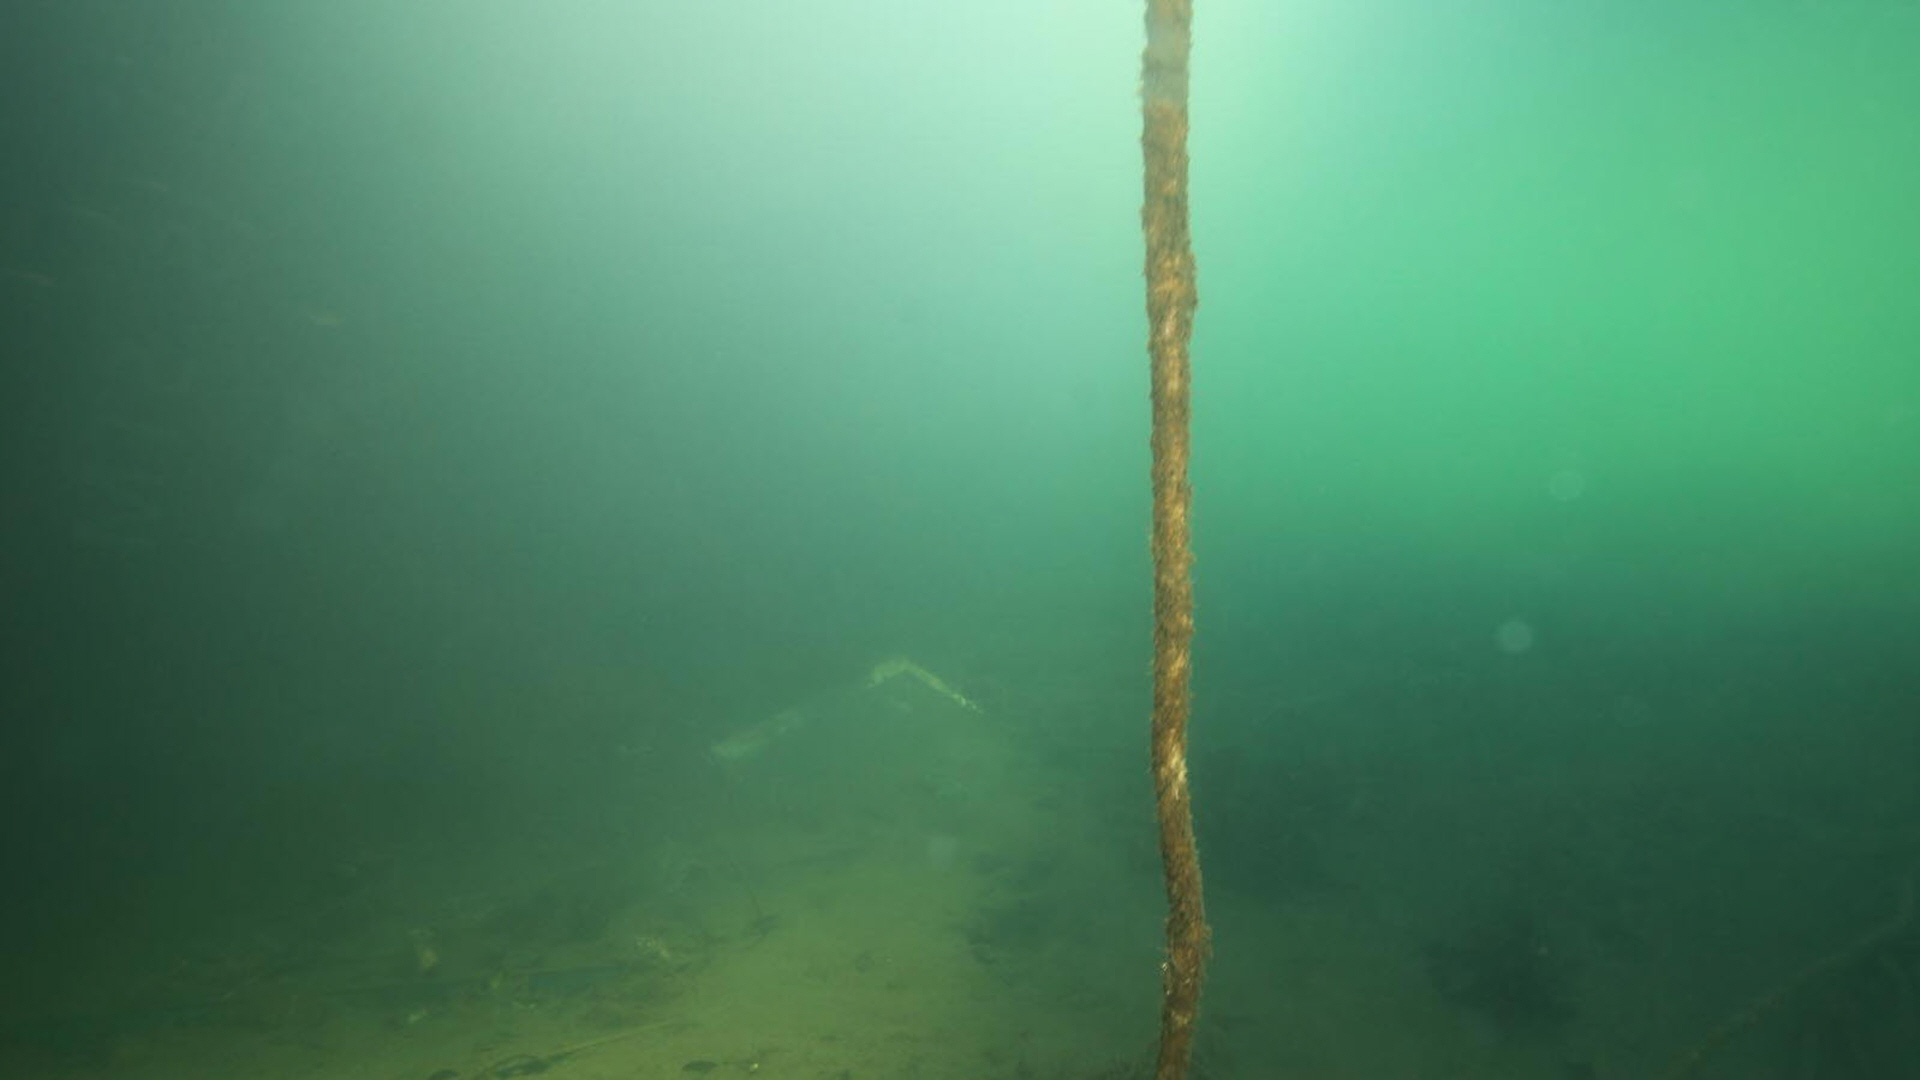rope: (1135, 0, 1207, 1080)
